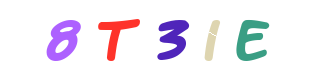3: (118, 0, 198, 80)
8: (31, 0, 111, 80)
E: (210, 0, 290, 80)
I: (133, 0, 213, 80)
T: (76, 0, 156, 80)
